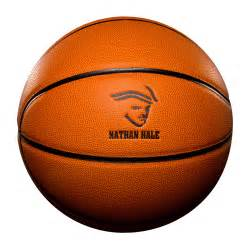basketball: (14, 14, 236, 235)
